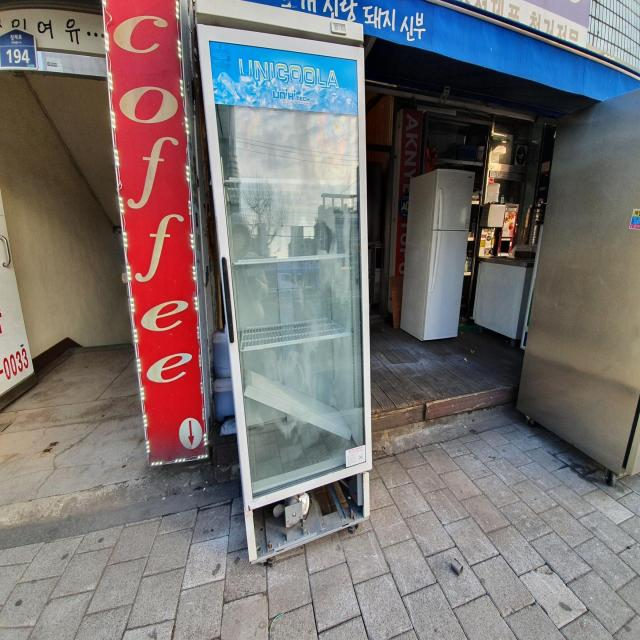refrigerator: (191, 0, 373, 564)
